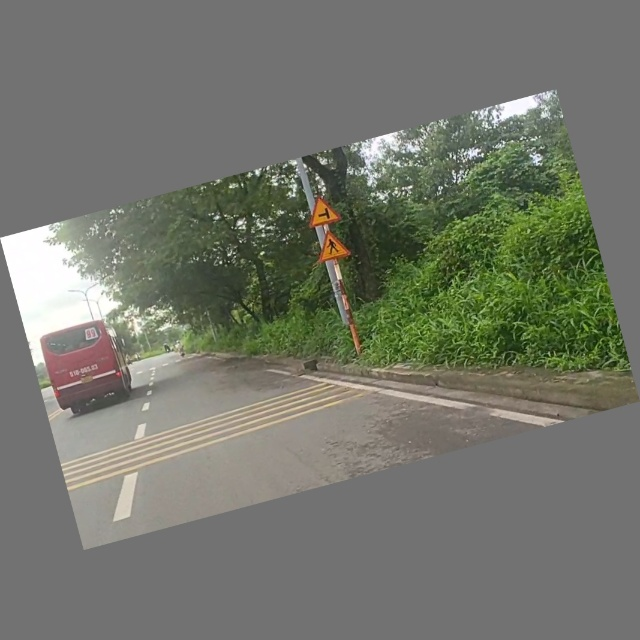W.205c: (302, 190, 347, 230)
W.224: (307, 224, 356, 268)
